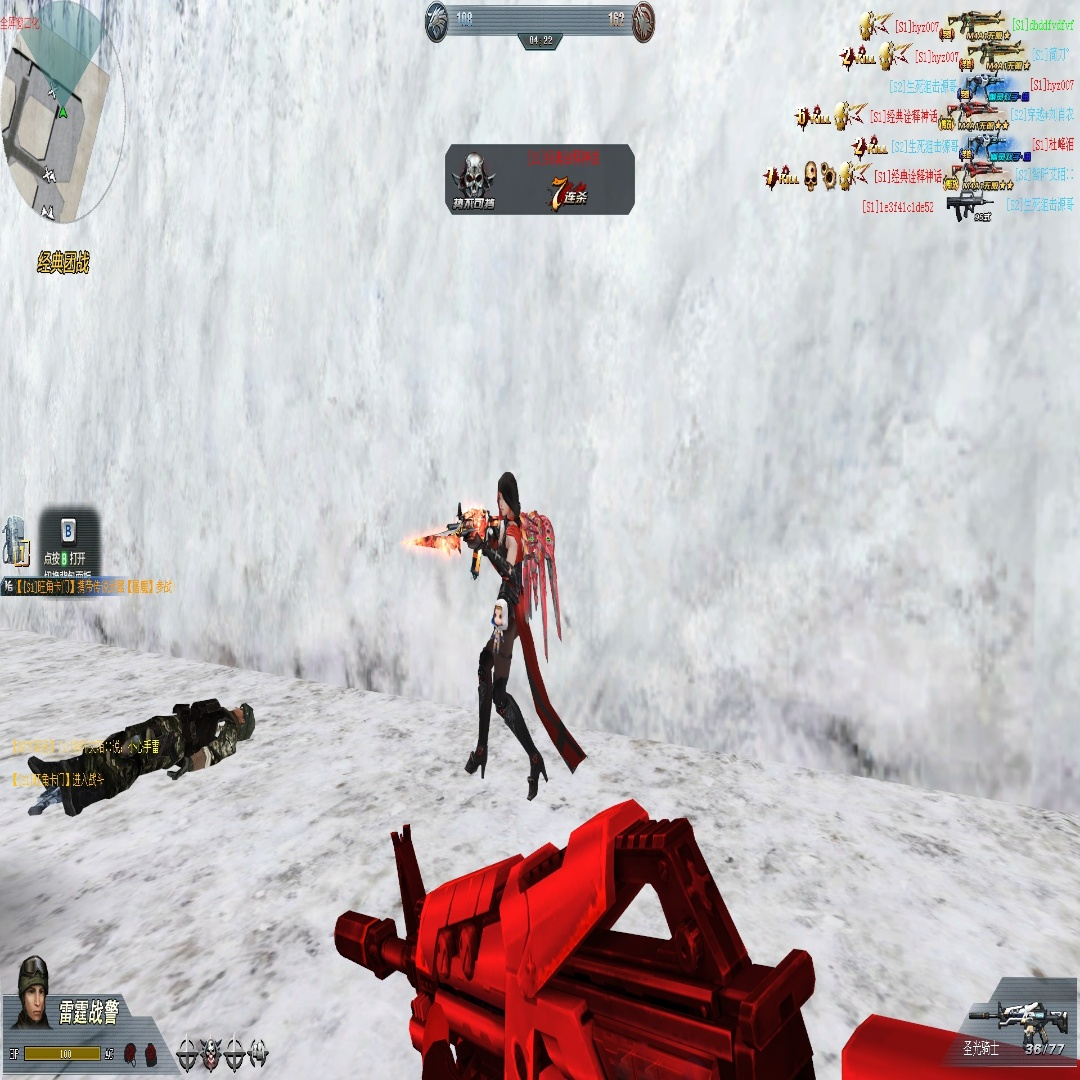head: (496, 470, 523, 525)
t: (460, 467, 556, 801), (25, 705, 256, 817)
